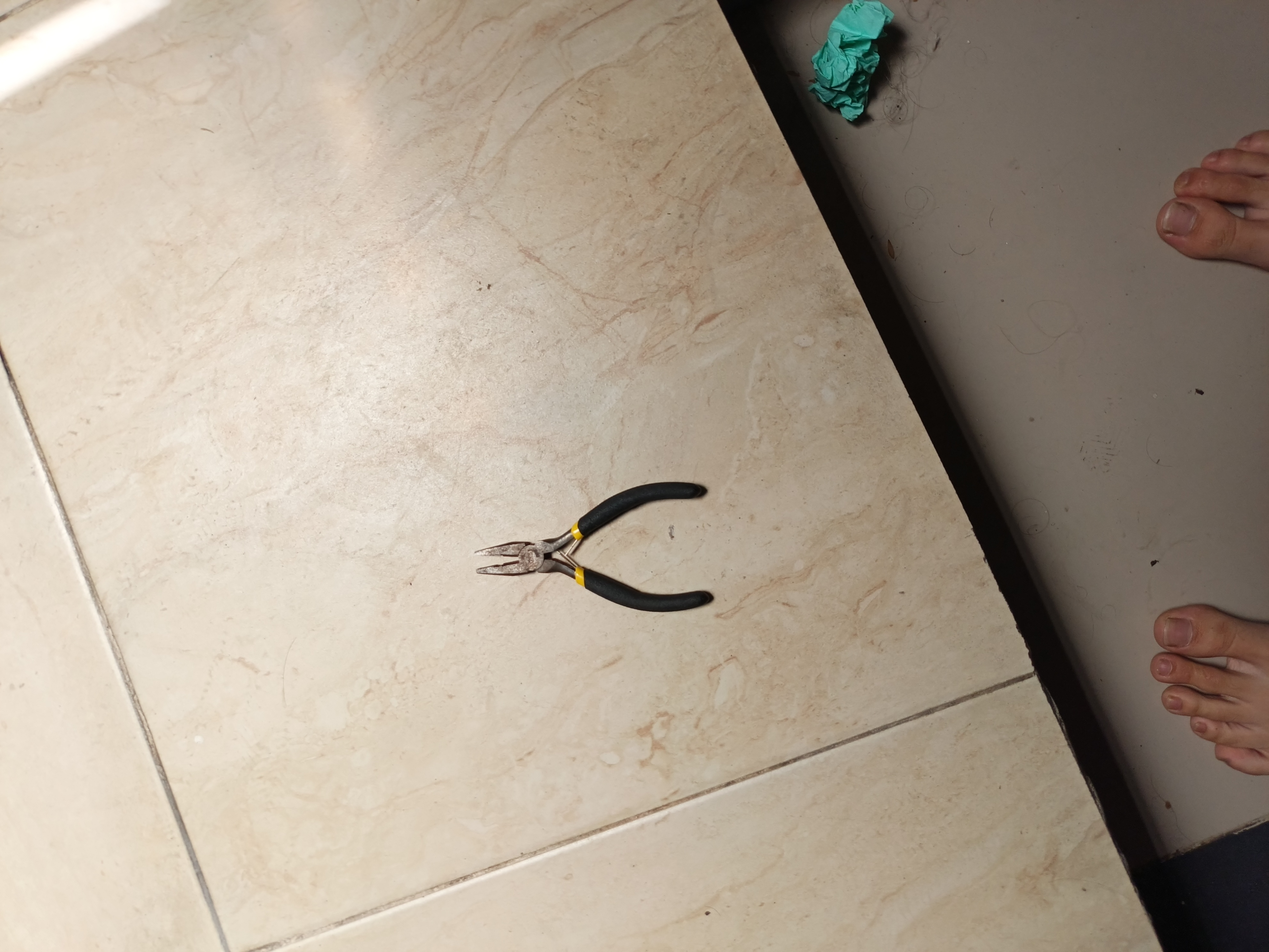Pinzas: (475, 482, 713, 611)
